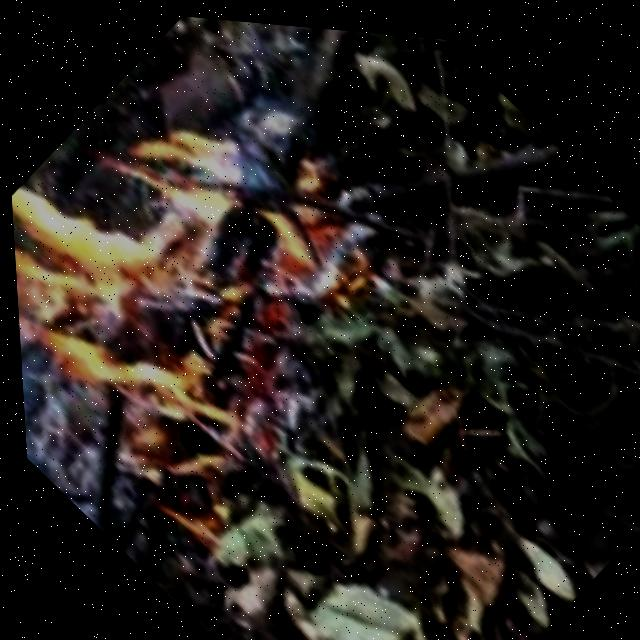Fire: (0, 5, 436, 537)
